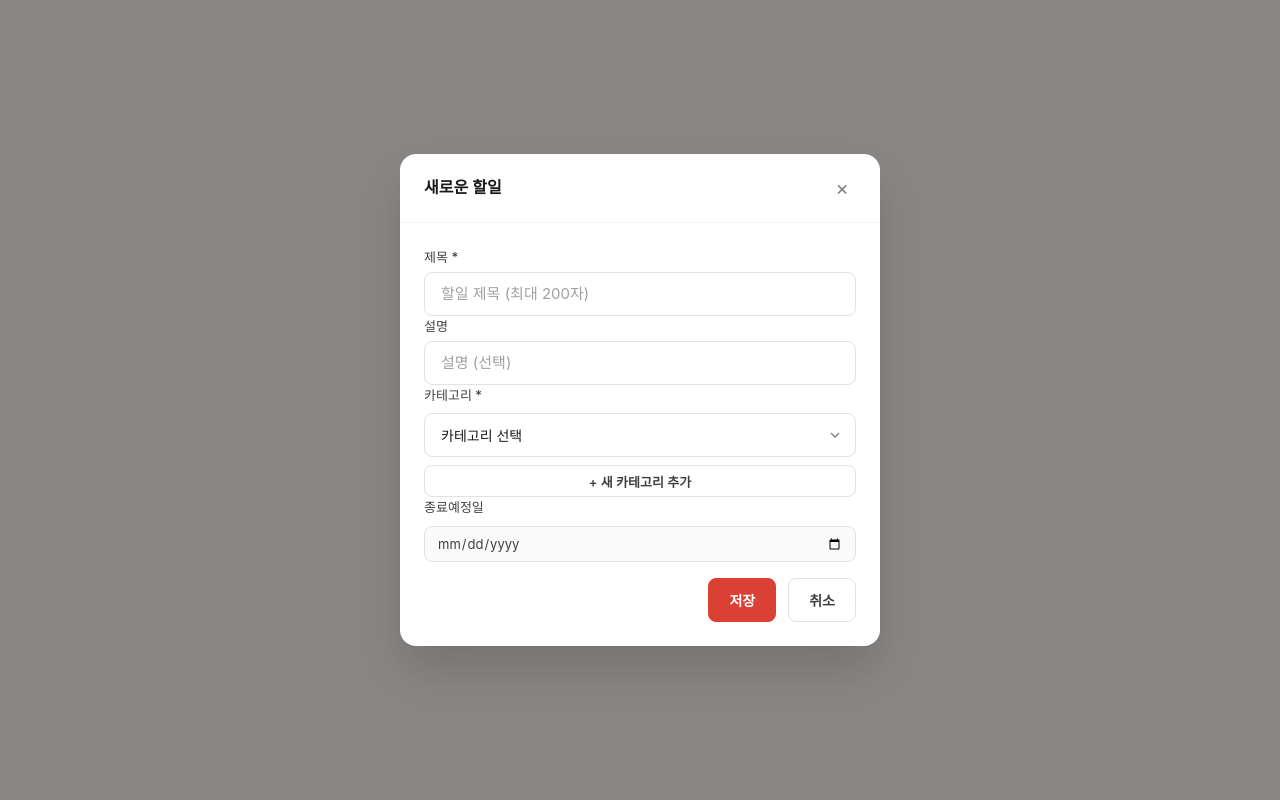
TodoFormModal — 등록 모드 (create) › 제목 빈값 제출 시 에러가 표시된다
Select "일반" in the dropdown at (640, 435), box [424,413,856,457]
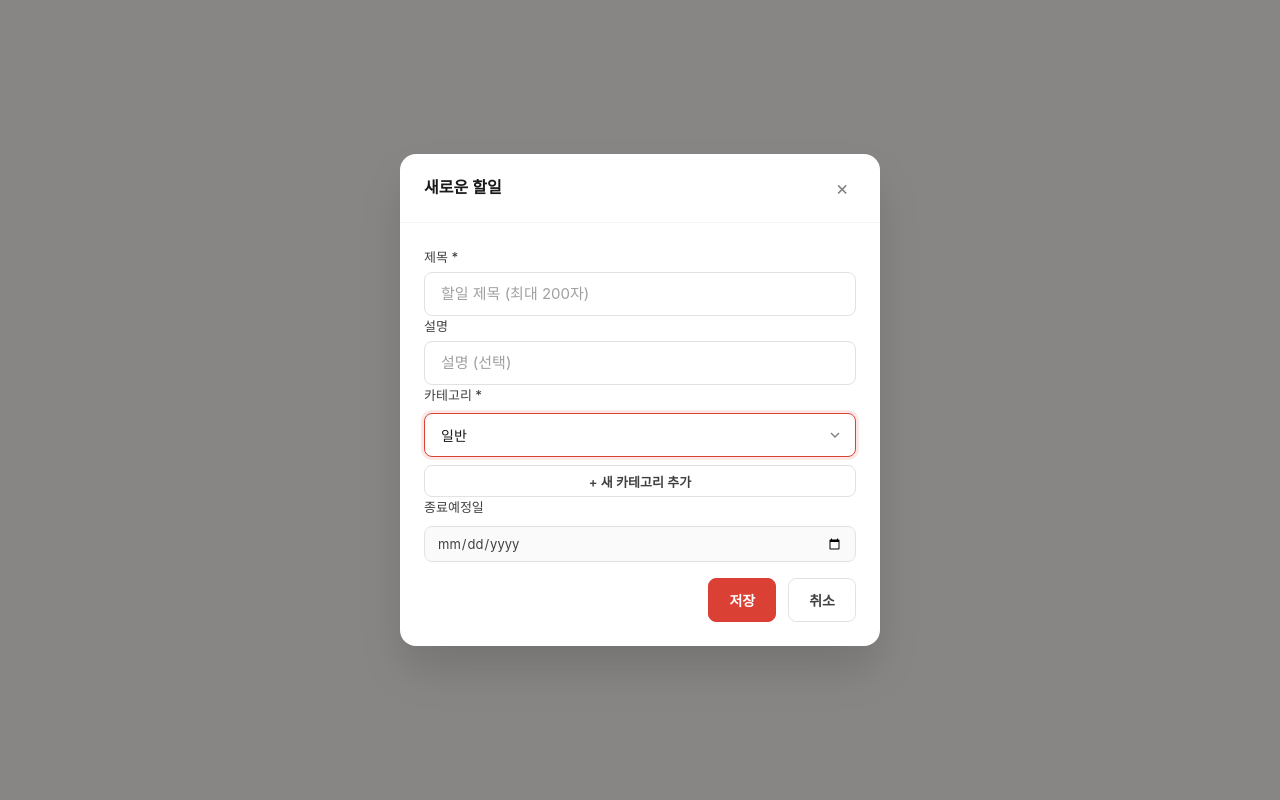
Click the button with test id "form-submit".
click(742, 600)  # box [708,578,776,622]
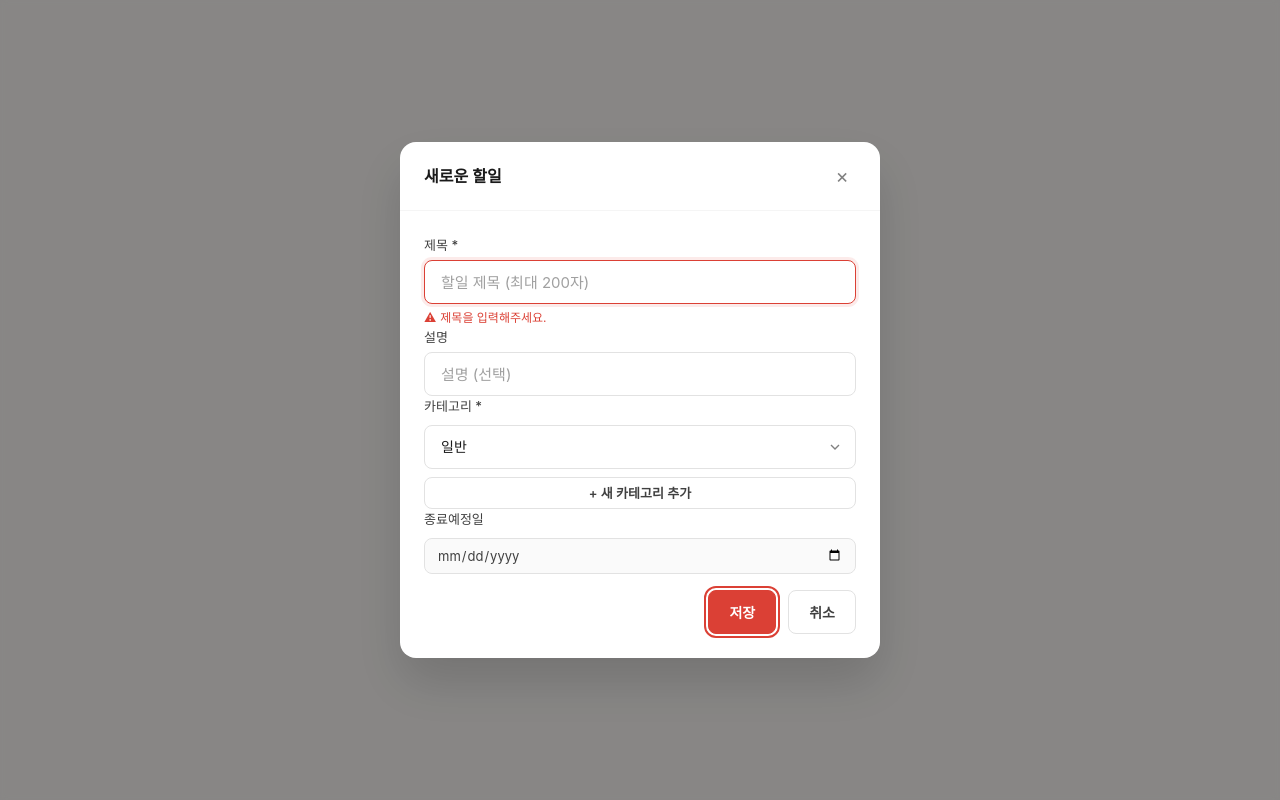
Expected: the message reads "제목을 입력해주세요.", [440,310,546,325]
